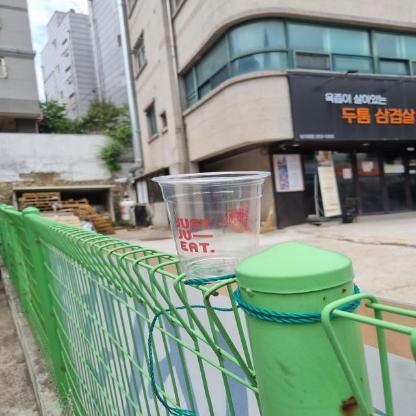Plastic Cup: (148, 169, 280, 280)
